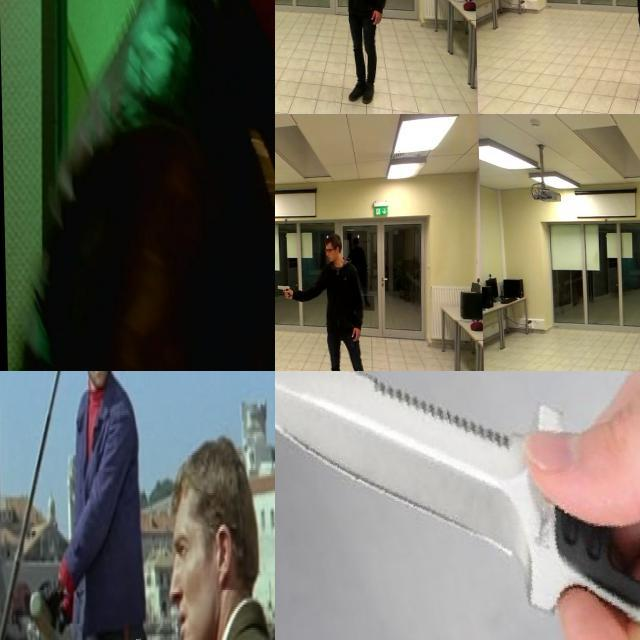-: (275, 371, 640, 640)
gun-knife-thesis - v11 Yolov5 augmented: (275, 281, 288, 299), (303, 0, 323, 9), (581, 0, 600, 9)
